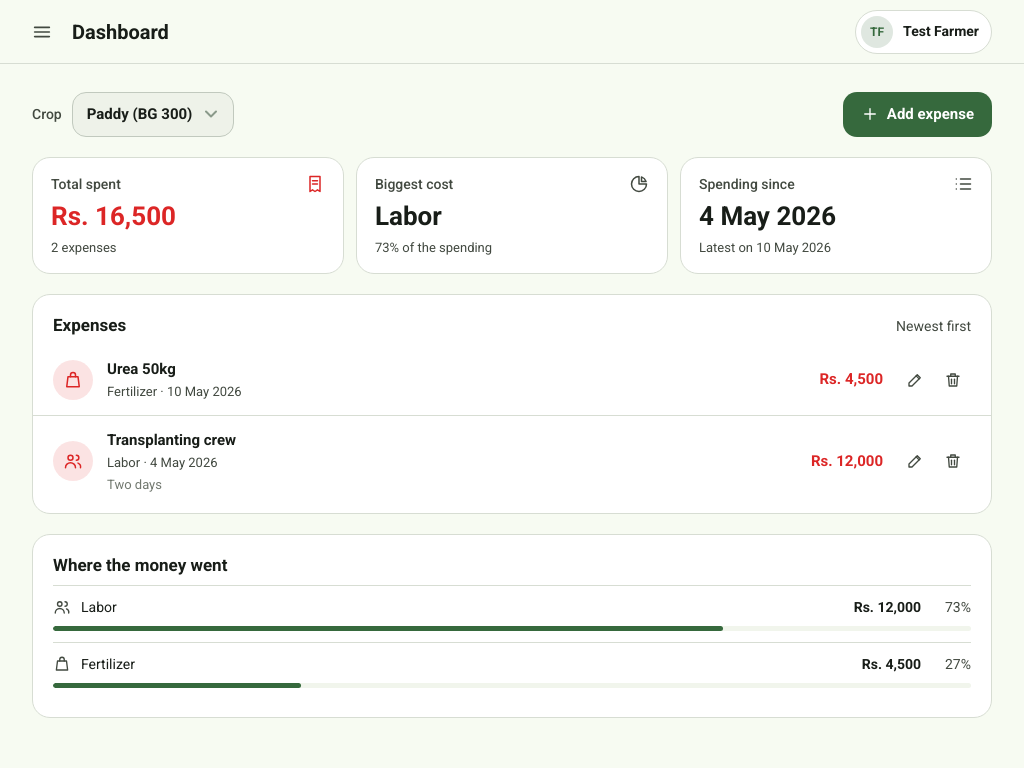
Test: ExpensesPage › shows the server's validation message when a save is rejected
Click the button named "Edit Urea 50kg" at (915, 380), box [897,362,933,398]
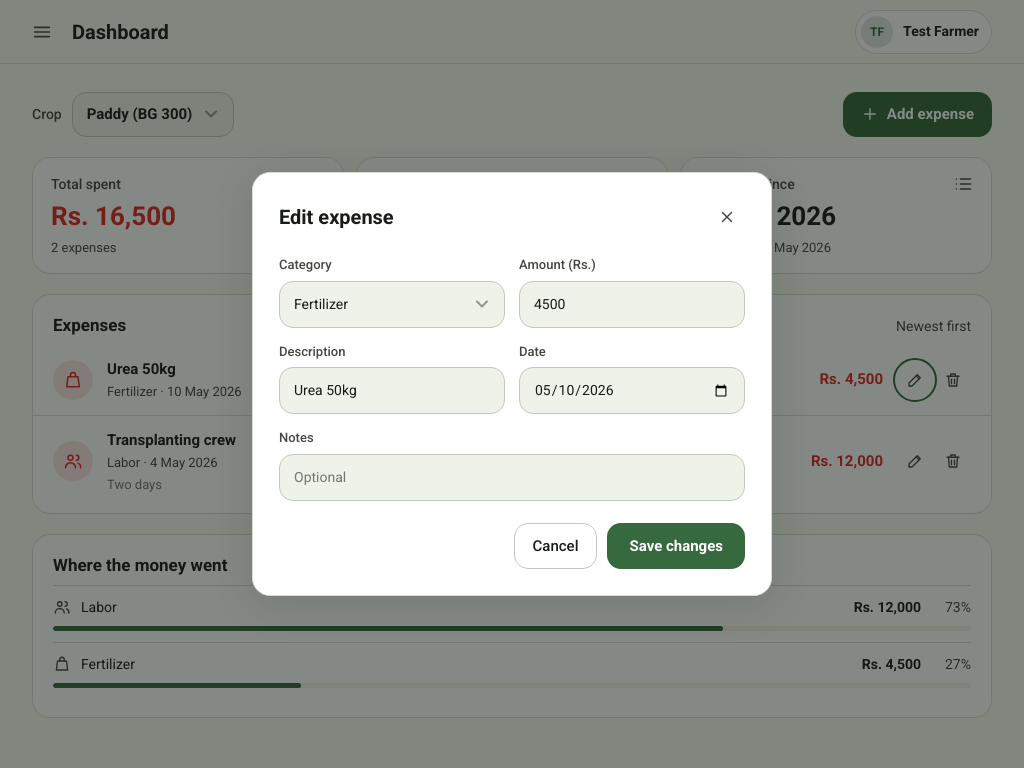
Click the button "Save changes" at (676, 546), box [608,522,745,569]
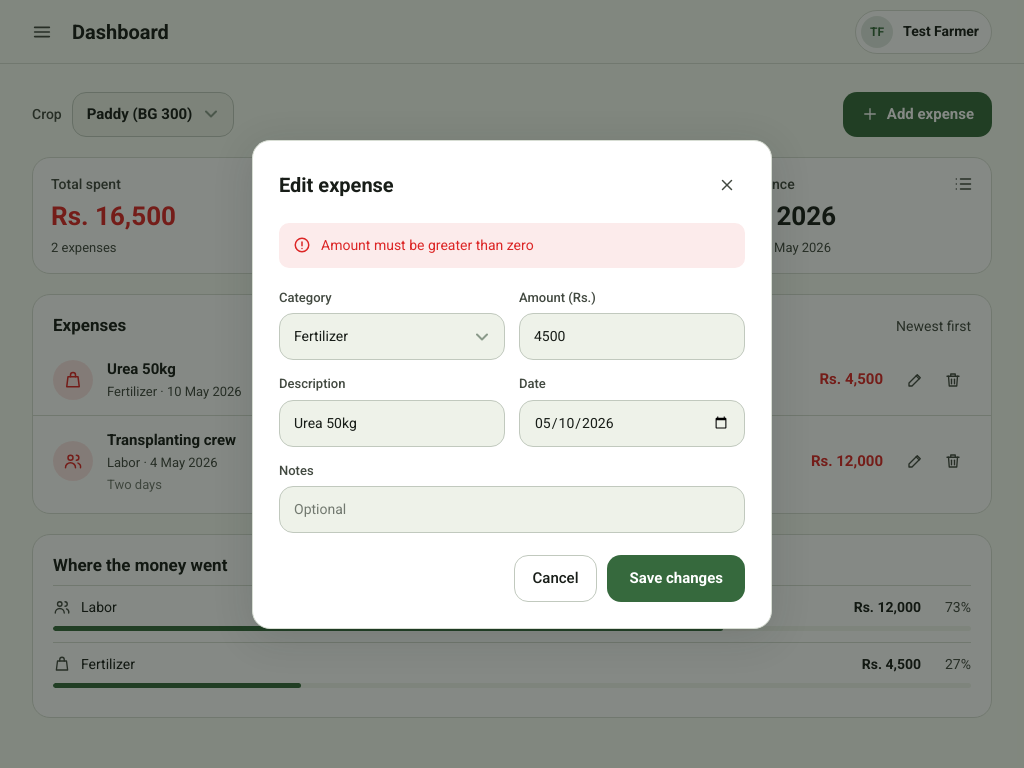
expect the text "Amount must be greater than zero" is shown: met, box [321,234,534,256]
